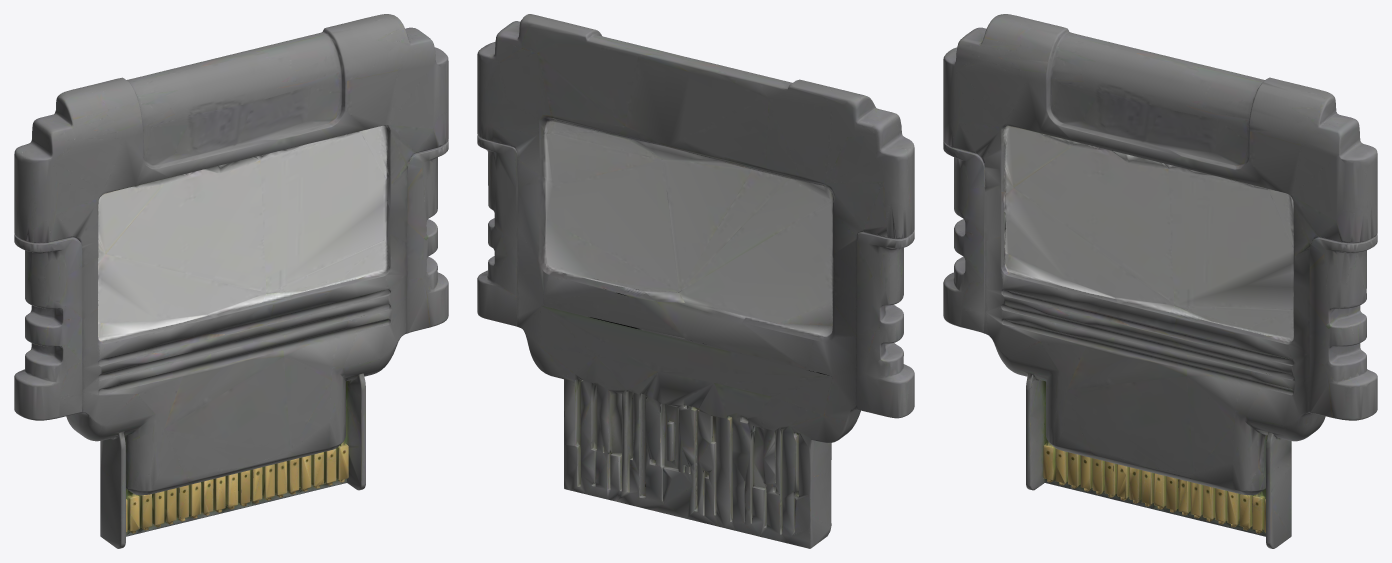
File: a3D-cartucho.glb
3 renders of one model, left to right at view 1: azimuth 30°, elevation 25°; view 2: azimuth 150°, elevation 25°; view 3: azimuth 330°, elevation 25°, orthographic.
Visible parts, largest first — view 1: geometry_0; view 2: geometry_0; view 3: geometry_0.
Boxes of the visible parts, x1=… form: geometry_0: x1=14, y1=14, x2=448, y2=548; geometry_0: x1=477, y1=14, x2=914, y2=548; geometry_0: x1=943, y1=14, x2=1377, y2=548.
Bounding box in the file's own units: 1.87 × 1.9 × 0.1705.
1 material, 1 textured.
